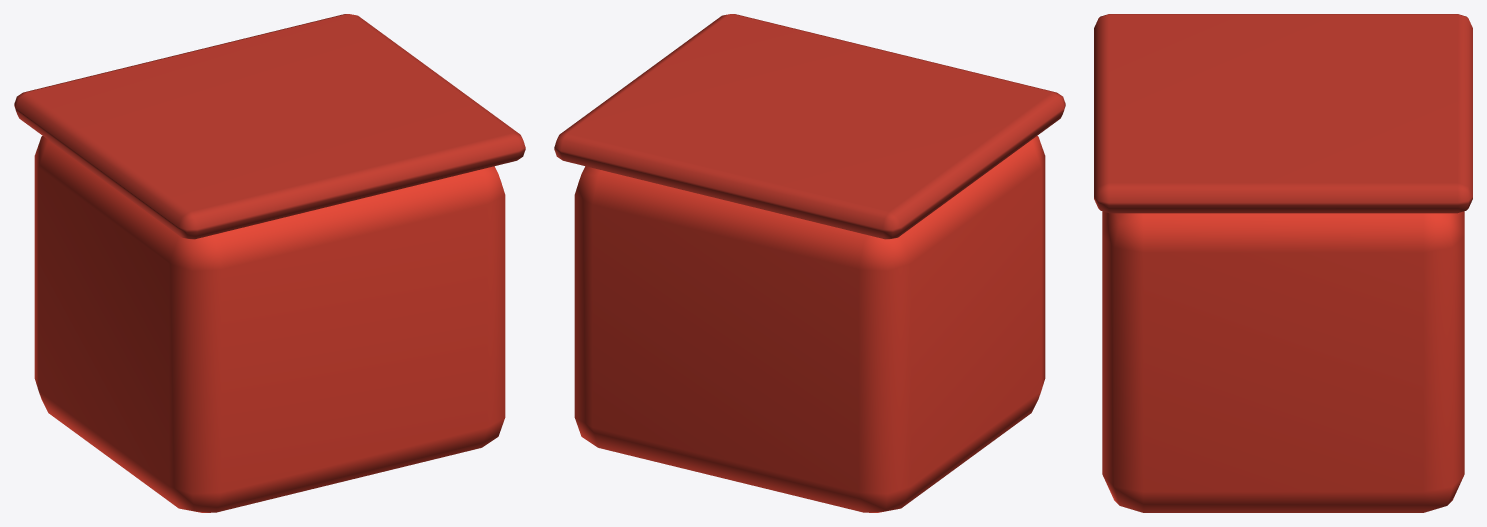
Rendered from delivery_box.glb.
3 views of the same model, side by side, from view 1: azimuth 30°, elevation 25°; view 2: azimuth 150°, elevation 25°; view 3: azimuth 270°, elevation 25° (orthographic). The views are drawn at different scales.
Visible parts, largest first — view 1: Box, Lid; view 2: Box, Lid; view 3: Box, Lid.
Boxes of the visible parts, x1,y1,x2,y2 form: Box: [34, 136, 505, 512]; Lid: [14, 14, 525, 239]; Box: [574, 136, 1045, 512]; Lid: [554, 14, 1065, 239]; Box: [1102, 211, 1464, 512]; Lid: [1094, 14, 1472, 213].
Bounding box in the file's own units: 0.52 × 0.46 × 0.46.
